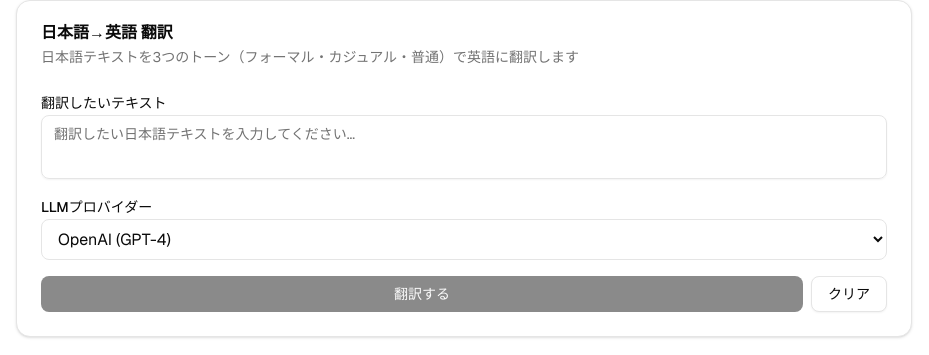
TranslationForm › should clear input when clear button is clicked
Type "こんにちは" into the text box with placeholder "翻訳したい日本語テキストを入力してください..." at (464, 147), box [41,115,887,179]
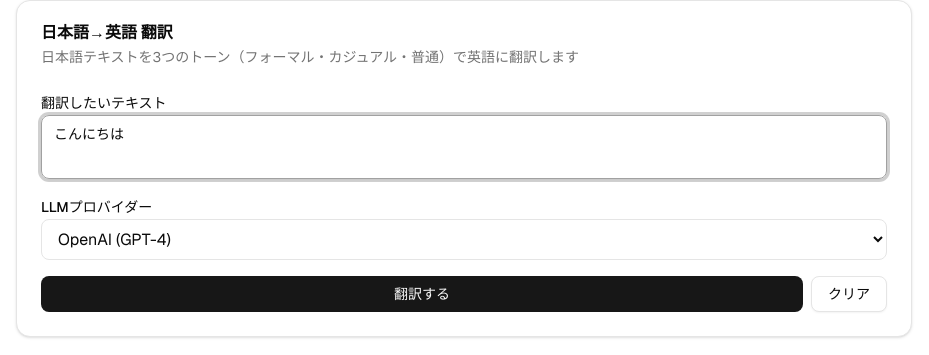
Click the button "クリア" at (849, 294), box [811,276,887,312]
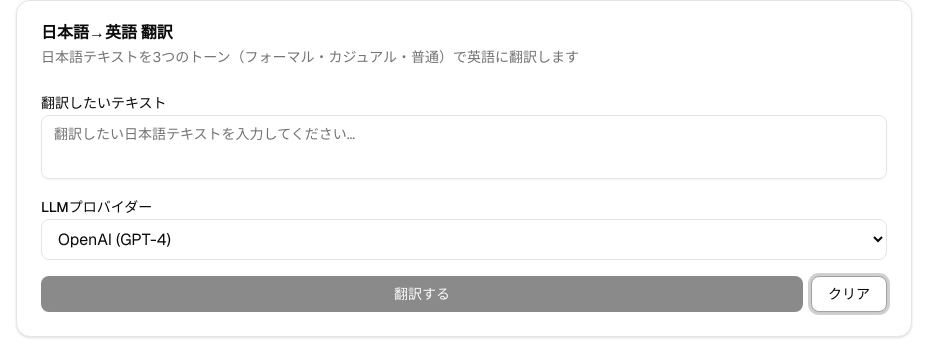
Check: the text box with placeholder "翻訳したい日本語テキストを入力してください..." is empty, box [41,115,887,179]
